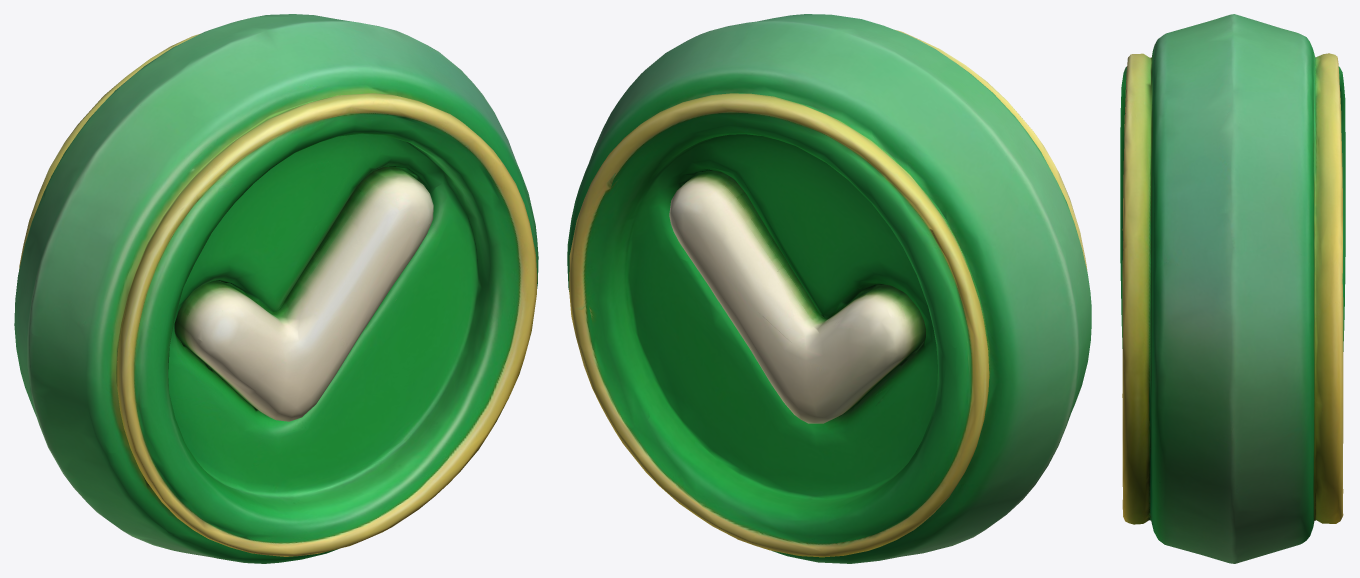
File: neck-badge.glb
3 views of the same model, side by side, from view 1: azimuth 30°, elevation 25°; view 2: azimuth 150°, elevation 25°; view 3: azimuth 270°, elevation 25° (orthographic). The views are drawn at different scales.
Parts seen in each view (by area): view 1: tripo_node_4f4ea48d-3927-499a-b758-9640ac4aa81d; view 2: tripo_node_4f4ea48d-3927-499a-b758-9640ac4aa81d; view 3: tripo_node_4f4ea48d-3927-499a-b758-9640ac4aa81d.
Part boxes in pixels (x1,y1,x2,y2): tripo_node_4f4ea48d-3927-499a-b758-9640ac4aa81d: (14, 14, 538, 563); tripo_node_4f4ea48d-3927-499a-b758-9640ac4aa81d: (567, 14, 1091, 563); tripo_node_4f4ea48d-3927-499a-b758-9640ac4aa81d: (1120, 14, 1345, 563).
Size of the model in its own units: 0.9954 by 1 by 0.4099.
1 material, 1 textured.
